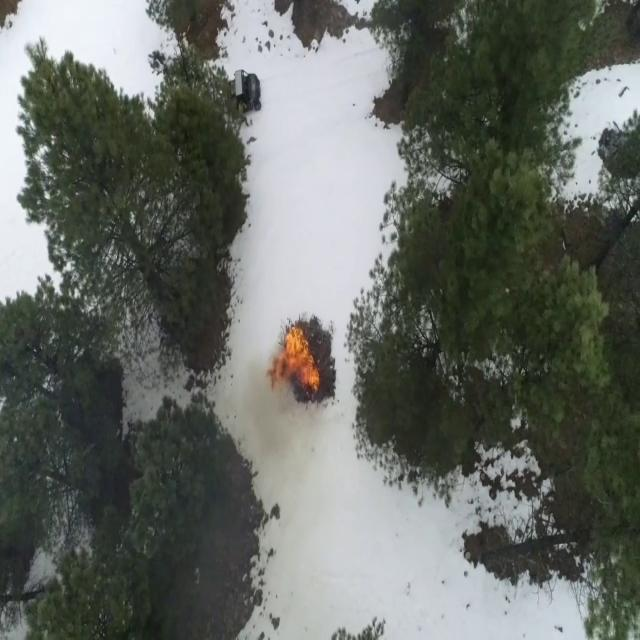fire: (272, 328, 320, 401)
